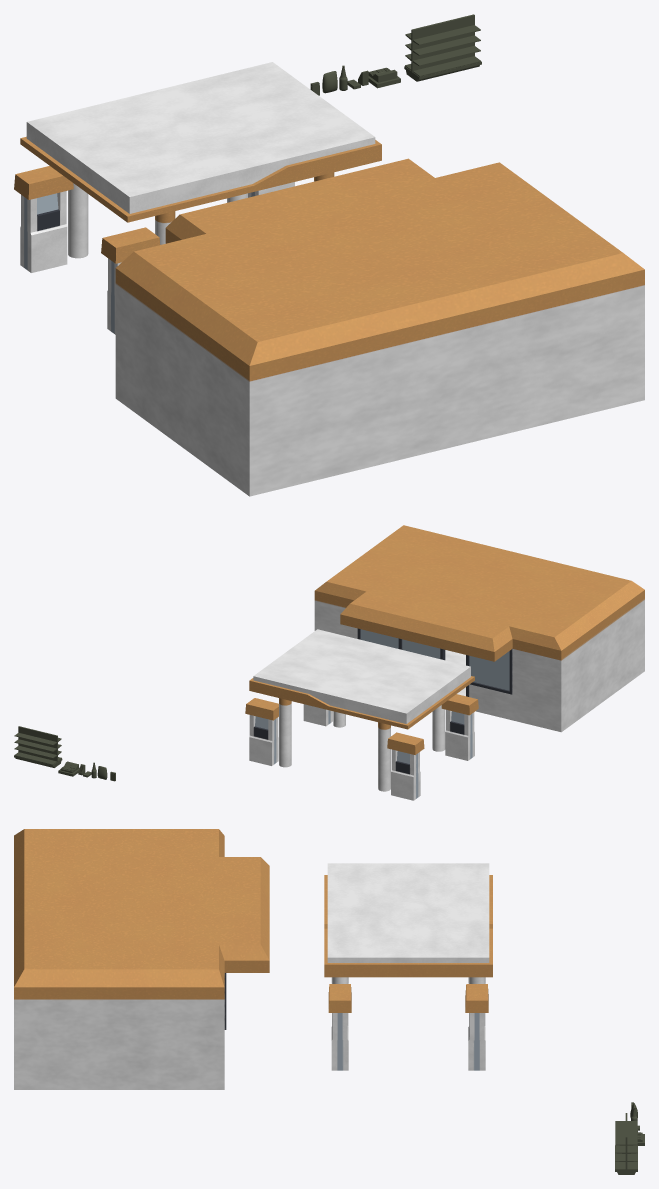
Rendered from Game Jam .fbx.
3 renders of one model, top to bottom at view 1: azimuth 30°, elevation 25°; view 2: azimuth 150°, elevation 25°; view 3: azimuth 270°, elevation 25°, orthographic. The views are drawn at different scales.
Parts seen in each view (by area): view 1: Gas Station, Cube.009, Rack; view 2: Gas Station, Cube.009, Rack; view 3: Gas Station, Cube.009, Rack.
Boxes of the visible parts, x1,y1,x2,y2 form: Gas Station: (115, 158, 644, 496); Cube.009: (14, 62, 381, 334); Rack: (404, 14, 481, 81); Gas Station: (314, 525, 644, 732); Cube.009: (245, 629, 478, 800); Rack: (14, 726, 62, 767); Gas Station: (14, 829, 269, 1089); Cube.009: (324, 863, 492, 1070); Rack: (615, 1113, 637, 1174).
Size of the model in its own units: 9685 by 2282 by 10956.
